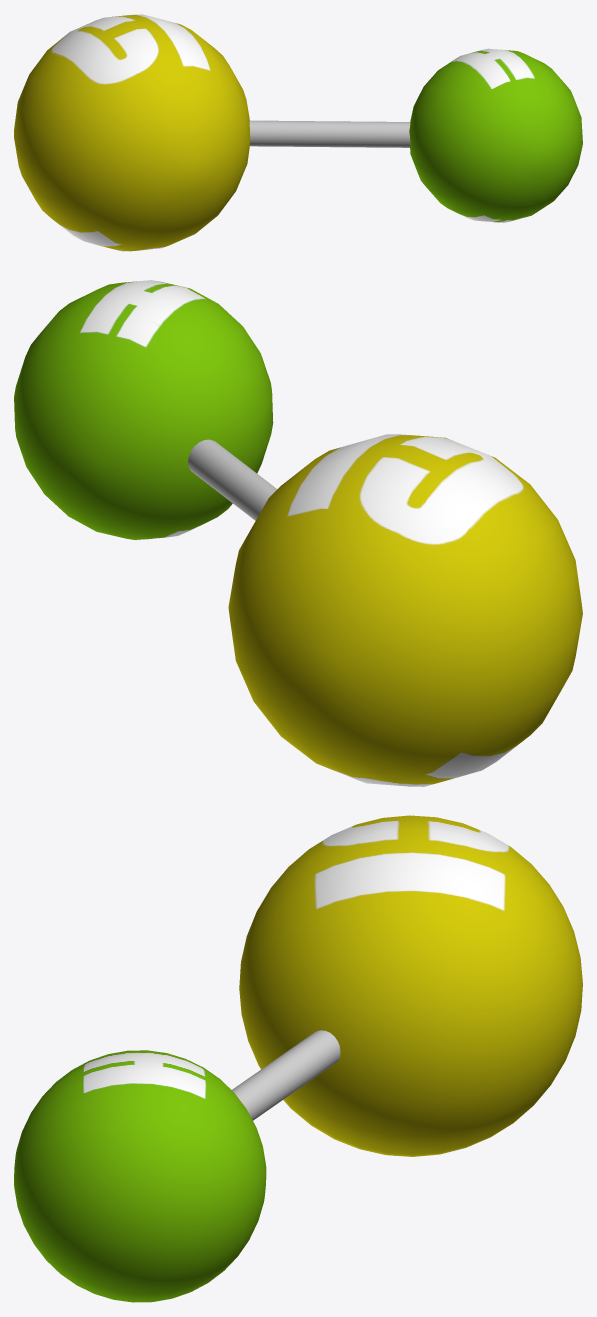
The model's file is SM_Molecule_8.fbx.
3 renders of one model, top to bottom at view 1: azimuth 30°, elevation 25°; view 2: azimuth 150°, elevation 25°; view 3: azimuth 270°, elevation 25°, orthographic. The views are drawn at different scales.
Parts seen in each view (by area): view 1: SM_Molecule_8; view 2: SM_Molecule_8; view 3: SM_Molecule_8.
Part boxes in pixels (x1,y1,x2,y2): SM_Molecule_8: (14,14,582,251); SM_Molecule_8: (14,280,582,786); SM_Molecule_8: (14,815,582,1302).
Bounding box in the file's own units: 120 × 55.24 × 91.42.
